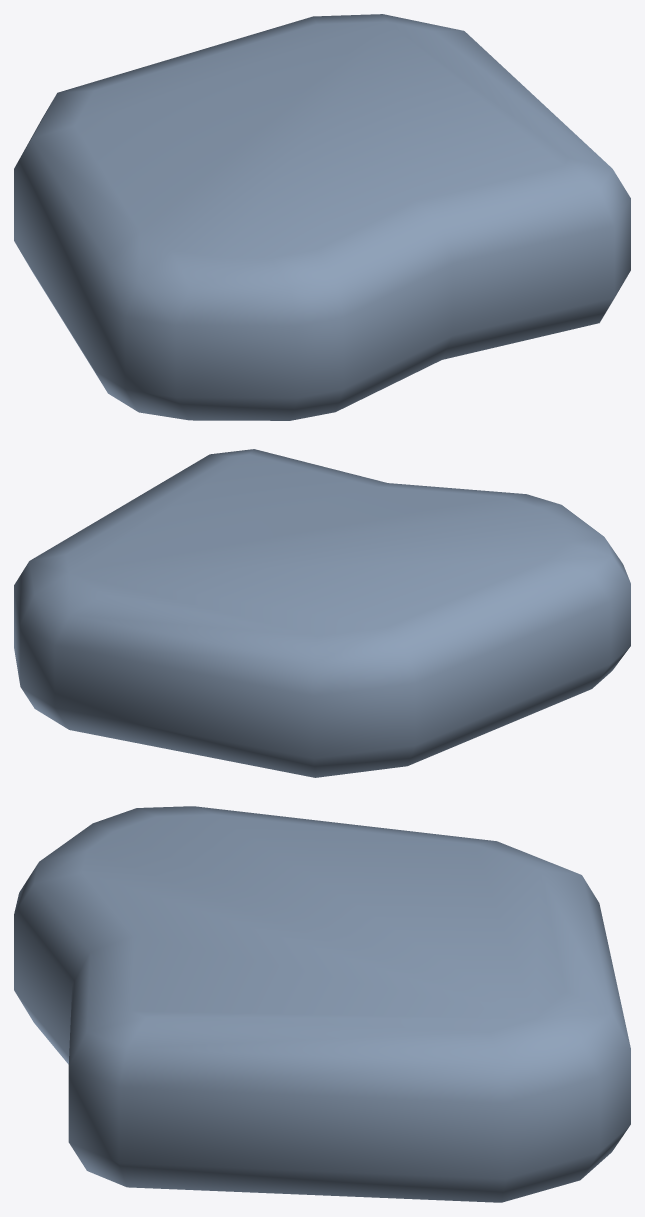
File: ruins-debris-2.fbx
3 views of the same model, one above another, from view 1: azimuth 30°, elevation 25°; view 2: azimuth 150°, elevation 25°; view 3: azimuth 270°, elevation 25° (orthographic). The views are drawn at different scales.
Parts seen in each view (by area): view 1: Grid; view 2: Grid; view 3: Grid.
Part boxes in pixels (left/top/right/bottom): Grid: left=14, top=14, right=630, bottom=420; Grid: left=14, top=449, right=630, bottom=777; Grid: left=14, top=806, right=630, bottom=1202.
Bounding box in the file's own units: 105 × 29.44 × 99.59.
